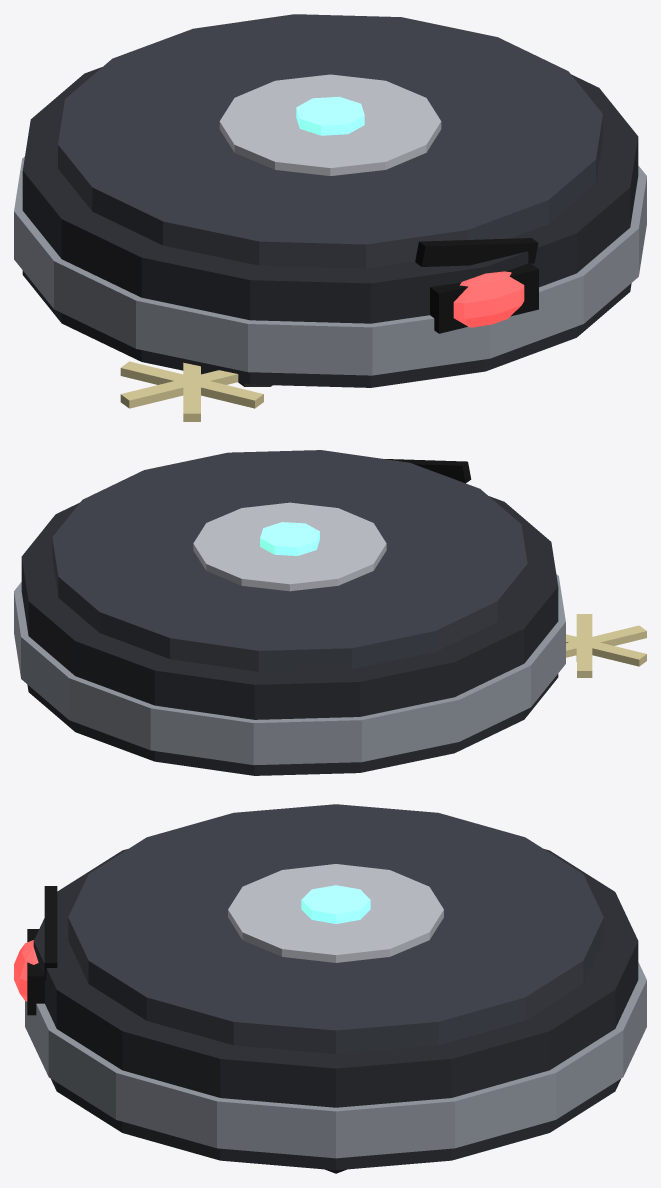
File: roomba.fbx
3 renders of one model, top to bottom at view 1: azimuth 30°, elevation 25°; view 2: azimuth 150°, elevation 25°; view 3: azimuth 270°, elevation 25°, orthographic. The views are drawn at different scales.
Visible parts, largest first — view 1: roomba, brush; view 2: roomba, brush; view 3: roomba.
Boxes of the visible parts, x1,y1,x2,y2 form: roomba: (14,14,646,387); brush: (120,361,272,421); roomba: (14,450,565,775); brush: (566,614,646,677); roomba: (14,804,646,1173).
Bounding box in the file's own units: 1.52 × 0.425 × 1.47.
